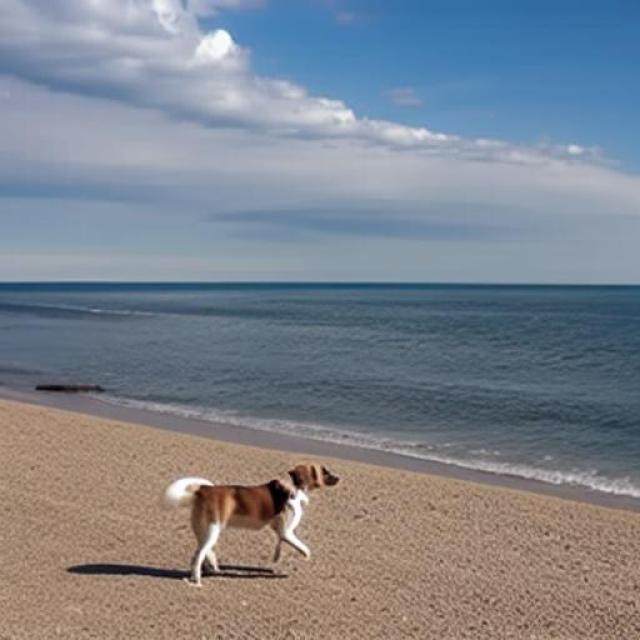Dog: (161, 462, 341, 586)
